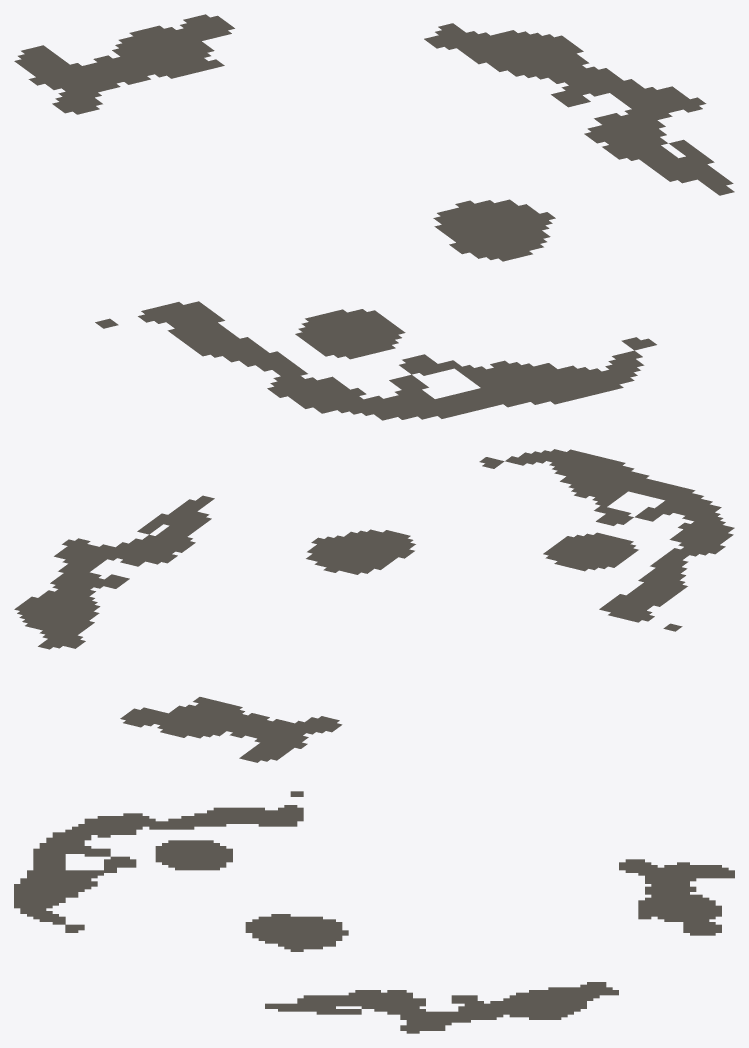
The model's file is Isl-flat5-NoBuildArea.fbx.
The picture shows the model from 3 angles, top to bottom: view 1: azimuth 30°, elevation 25°; view 2: azimuth 150°, elevation 25°; view 3: azimuth 270°, elevation 25°; orthographic projection. The views are drawn at different scales.
Parts seen in each view (by area): view 1: Isl-flat5-NoBuildArea; view 2: Isl-flat5-NoBuildArea; view 3: Isl-flat5-NoBuildArea.
Part boxes in pixels (<box>): Isl-flat5-NoBuildArea: <box>14,14,734,420</box>; Isl-flat5-NoBuildArea: <box>14,449,734,762</box>; Isl-flat5-NoBuildArea: <box>14,791,734,1033</box>.
Bounding box in the file's own units: 89 × 0 × 112.
